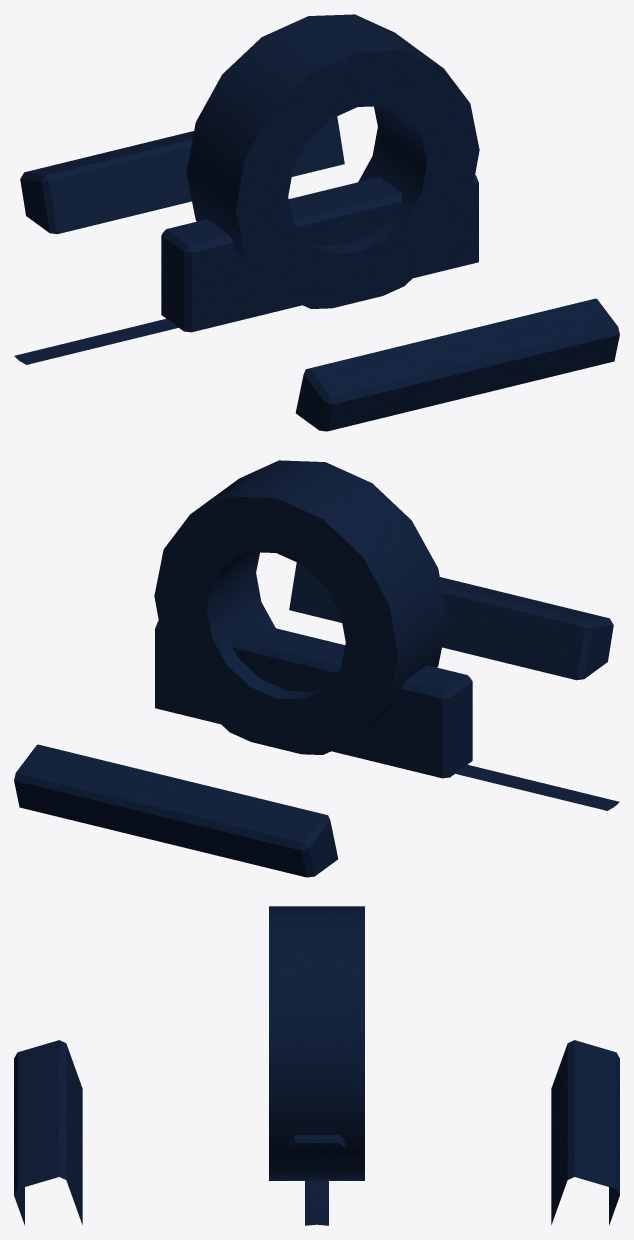
File: cell_45.obj
3 renders of one model, top to bottom at view 1: azimuth 30°, elevation 25°; view 2: azimuth 150°, elevation 25°; view 3: azimuth 270°, elevation 25°, orthographic. The views are drawn at different scales.
Parts seen in each view (by area): view 1: cell_45; view 2: cell_45; view 3: cell_45.
Part boxes in pixels (box(x1,y1,x2,y2)): cell_45: box(14, 14, 619, 431); cell_45: box(14, 460, 619, 877); cell_45: box(14, 906, 619, 1225).
Size of the model in its own units: 0.4202 by 0.2253 by 0.5068.
